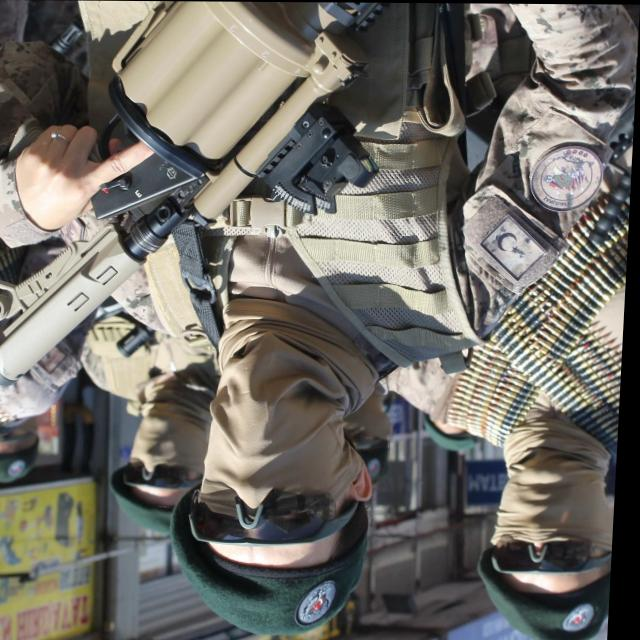poh_personel: (0, 0, 640, 640), (372, 158, 634, 640), (78, 309, 233, 533)
